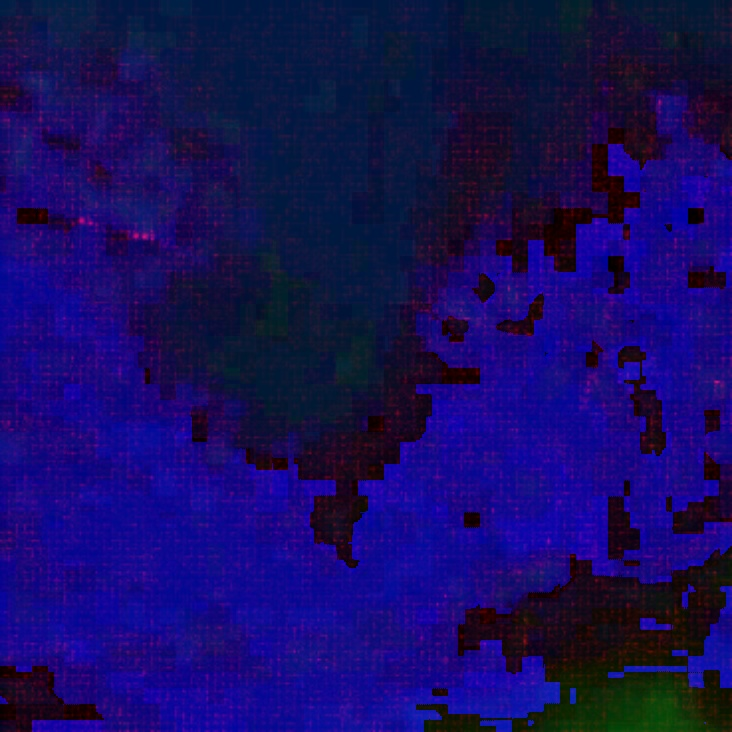rip_current: (89, 66, 508, 532)
